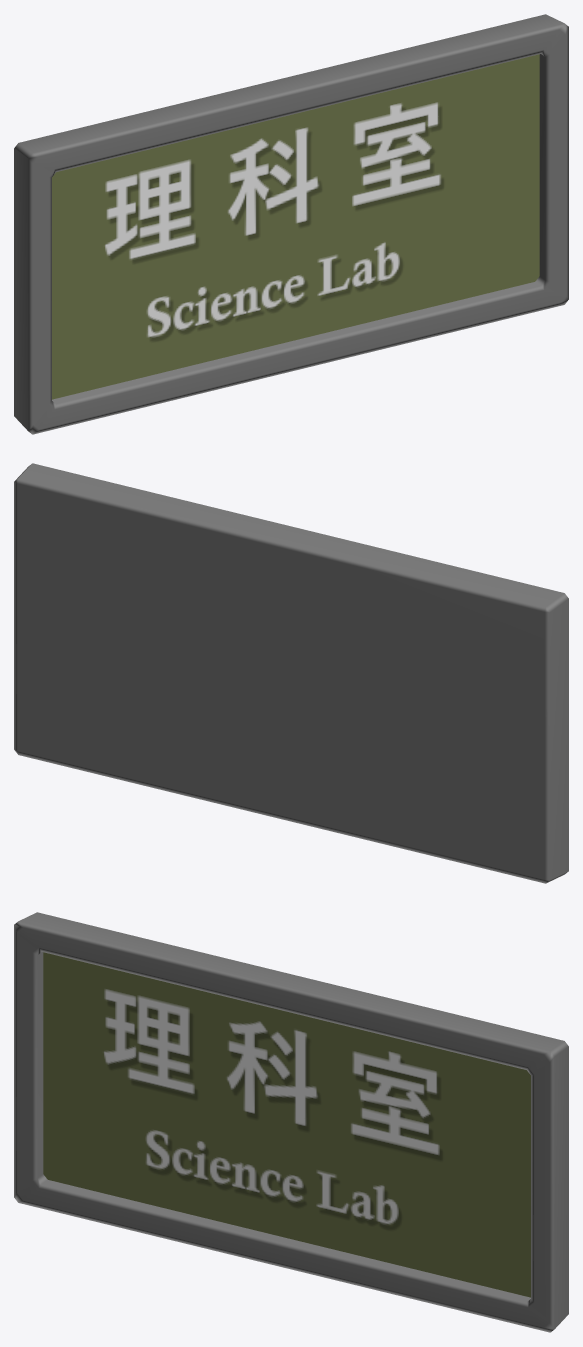
File: SM_sign_sciencelab.fbx
3 views of the same model, one above another, from view 1: azimuth 30°, elevation 25°; view 2: azimuth 150°, elevation 25°; view 3: azimuth 330°, elevation 25° (orthographic).
Visible parts, largest first — view 1: sign_roomname05; view 2: sign_roomname05; view 3: sign_roomname05.
Part boxes in pixels (bbox=[...]): sign_roomname05: bbox=[14, 14, 568, 434]; sign_roomname05: bbox=[14, 463, 568, 883]; sign_roomname05: bbox=[14, 912, 568, 1332].
Bounding box in the file's own units: 28.58 × 14.22 × 1.67.
Materials: 2 (1 with a texture image).
